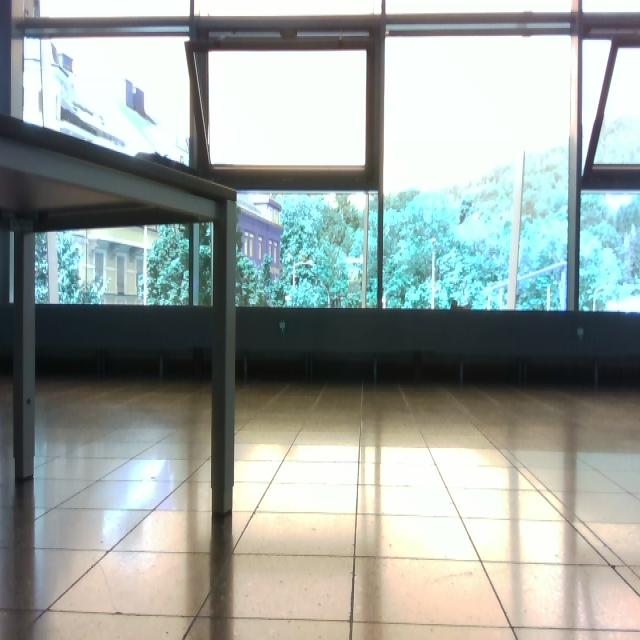light bulb: (293, 258, 314, 288), (577, 326, 585, 340)
pillar: (13, 229, 37, 481)
tiled floor: (1, 376, 640, 638)
window: (9, 1, 639, 316), (382, 24, 573, 312), (21, 10, 196, 169)
